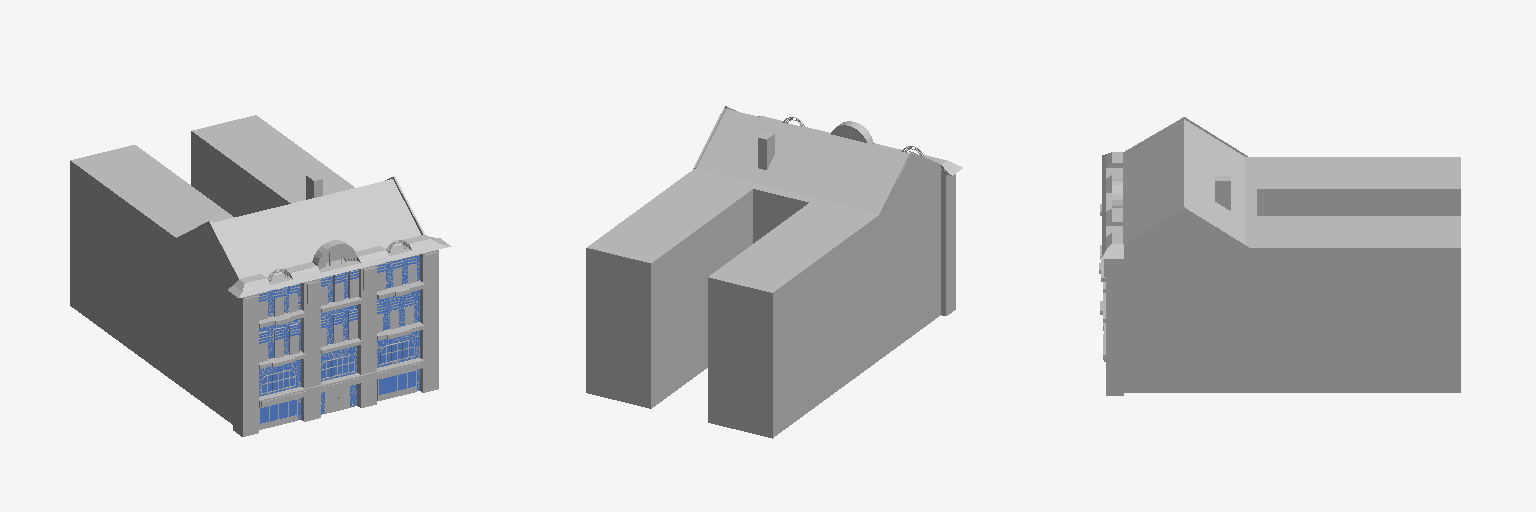
File: lux.obj
3 views of the same model, side by side, from view 1: azimuth 30°, elevation 25°; view 2: azimuth 150°, elevation 25°; view 3: azimuth 270°, elevation 25° (orthographic).
Parts seen in each view (by area): view 1: SketchUp.003, SketchUp.004, SketchUp.076, SketchUp.270, SketchUp.006, SketchUp.002, SketchUp.047, SketchUp.042, SketchUp.038, SketchUp.181; view 2: SketchUp.003, SketchUp.057, SketchUp.004, SketchUp; view 3: SketchUp.003, SketchUp.076, SketchUp.057, SketchUp.004, SketchUp.042.
Boxes of the visible parts, x1,y1,x2,y2 form: SketchUp.003: [70, 115, 424, 424]; SketchUp.004: [233, 250, 438, 436]; SketchUp.076: [214, 179, 420, 277]; SketchUp.270: [259, 254, 419, 419]; SketchUp.006: [312, 240, 360, 269]; SketchUp.002: [259, 242, 416, 429]; SketchUp.047: [260, 259, 397, 287]; SketchUp.042: [379, 235, 449, 258]; SketchUp.038: [228, 274, 279, 297]; SketchUp.181: [325, 386, 349, 413]; SketchUp.003: [586, 107, 940, 438]; SketchUp.057: [696, 109, 906, 212]; SketchUp.004: [941, 170, 955, 315]; SketchUp: [758, 132, 774, 169]; SketchUp.003: [1123, 119, 1460, 392]; SketchUp.076: [1123, 120, 1183, 242]; SketchUp.057: [1184, 121, 1244, 243]; SketchUp.004: [1099, 204, 1123, 395]; SketchUp.042: [1102, 221, 1123, 258].
Bounding box in the file's own units: 21.66 × 18.07 × 31.98.